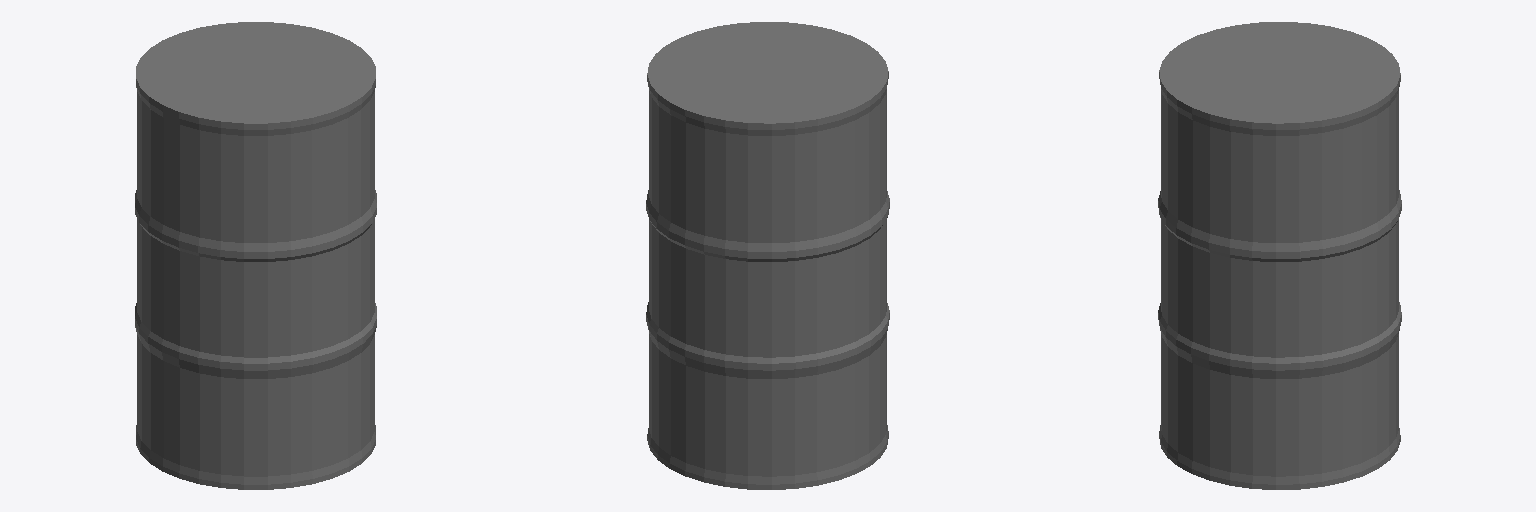
File: oildrum.obj
The picture shows the model from 3 angles: view 1: azimuth 30°, elevation 25°; view 2: azimuth 150°, elevation 25°; view 3: azimuth 270°, elevation 25°; orthographic projection.
Parts seen in each view (by area): view 1: oildrum:Mesh; view 2: oildrum:Mesh; view 3: oildrum:Mesh.
Part boxes in pixels (x1,y1,x2,y2): oildrum:Mesh: (135,22,376,489); oildrum:Mesh: (646,22,889,489); oildrum:Mesh: (1158,22,1401,489).
Size of the model in its own units: 0.6966 by 1.16 by 0.6966.